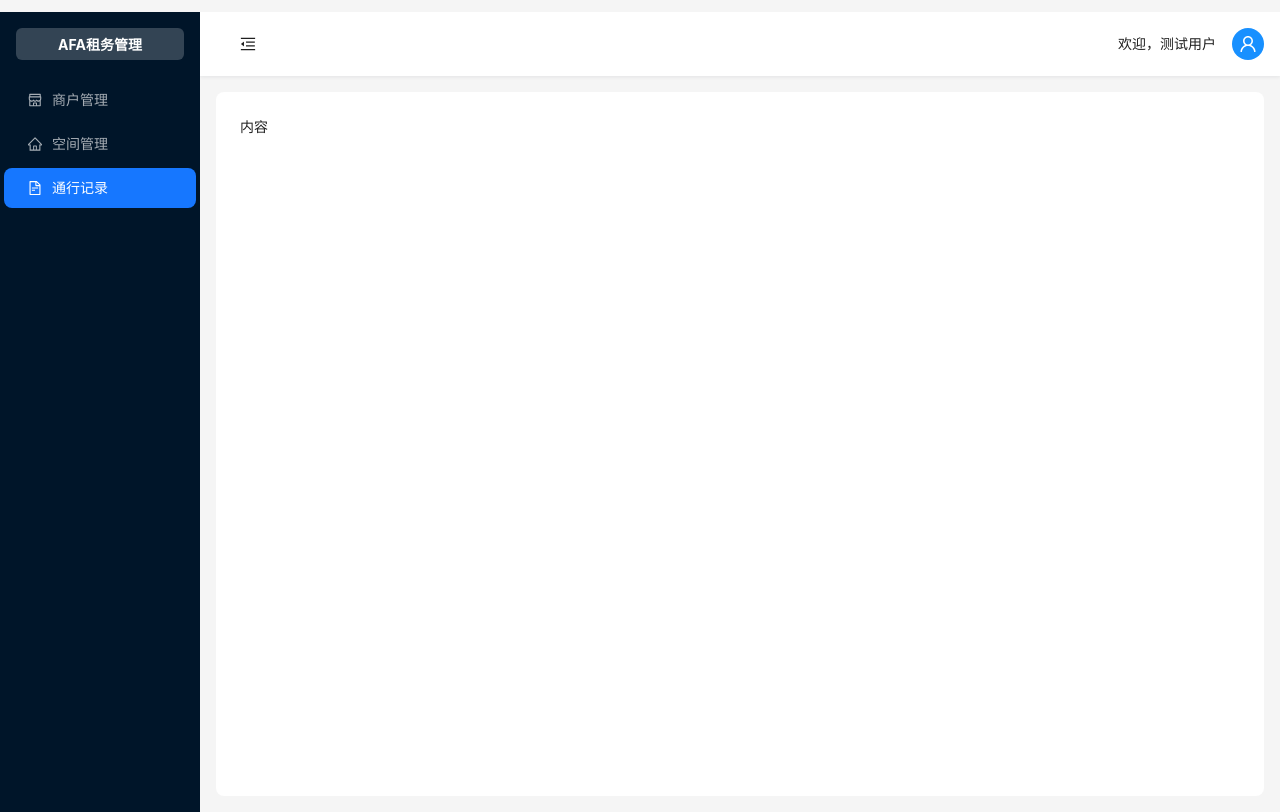
Test case: DashboardLayout › 头部功能测试 › 应该在切换后显示正确的图标
Expected: the text "AFA租务管理" is shown, [16,28,184,60]
Expected: the picture named "menu-fold" is shown, [240,36,256,52]
Click the button. click: (248, 44)
box: [216,12,280,76]
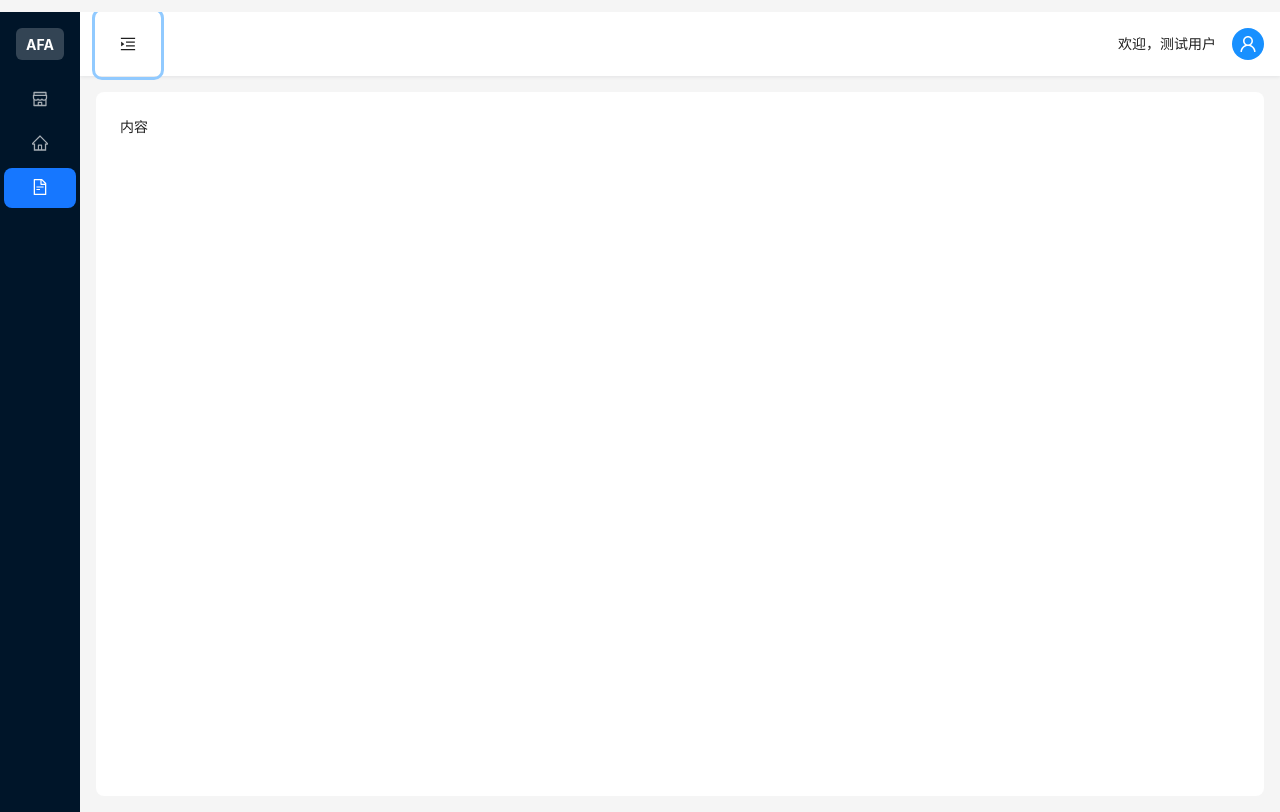
Expected: the picture named "menu-unfold" is shown, [120,36,136,52]
